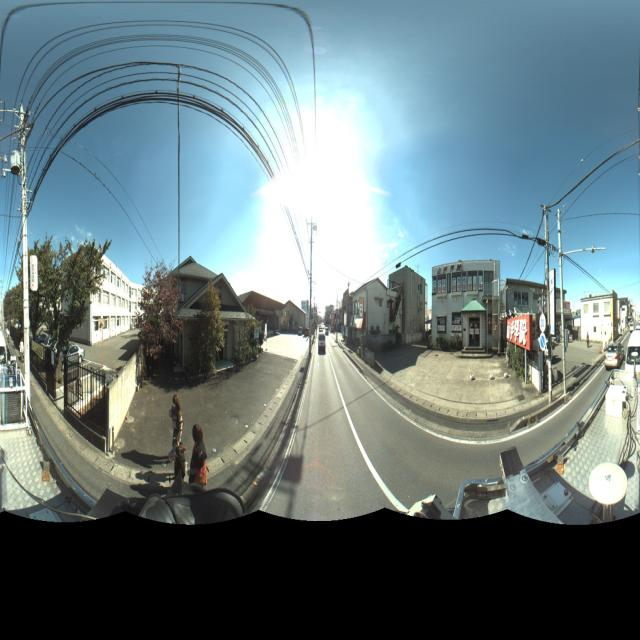b_1: (430, 256, 500, 355), (340, 272, 398, 360), (502, 272, 572, 326), (391, 261, 427, 348), (580, 294, 618, 346)
b_2: (64, 236, 154, 357), (164, 256, 252, 376)
